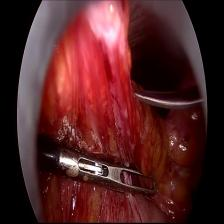Grasper: (60, 148, 158, 198)
Scissors: (134, 86, 204, 116)
